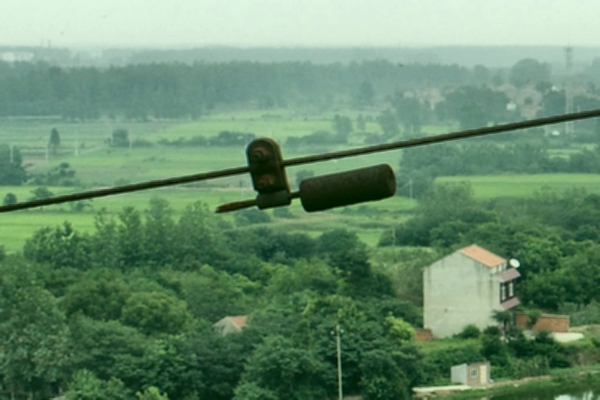damper_defect: (207, 133, 399, 220)
